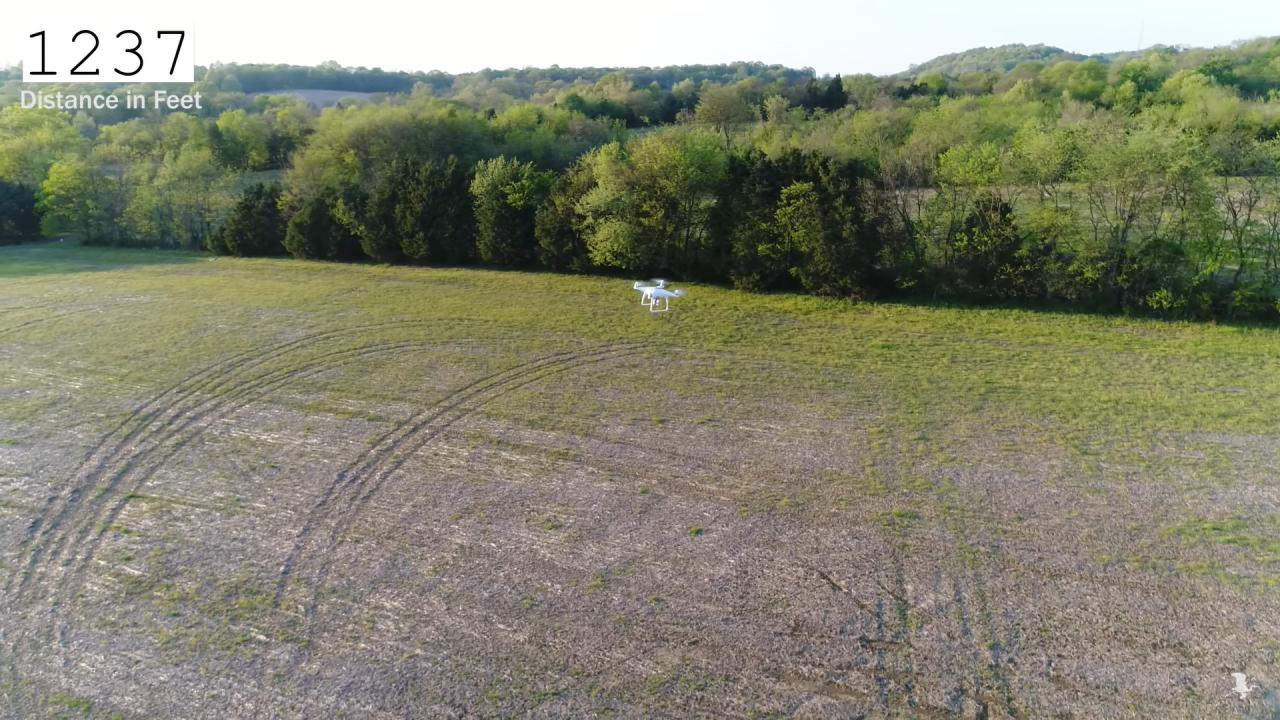Drone: (625, 270, 692, 320)
